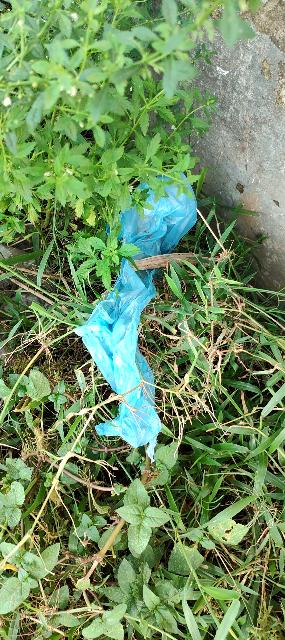polythene: (94, 187, 214, 448)
